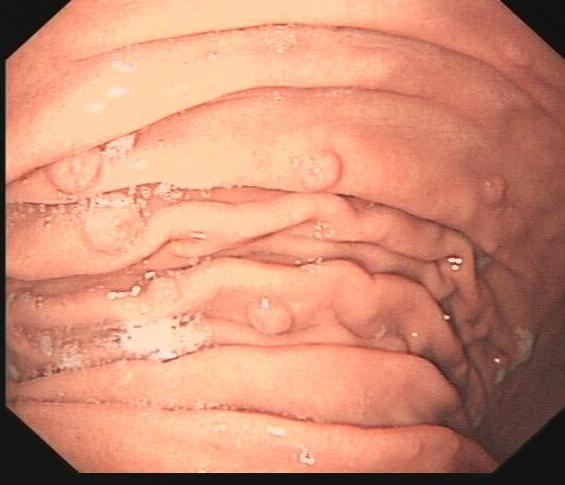Polyp: (76, 197, 144, 254)
